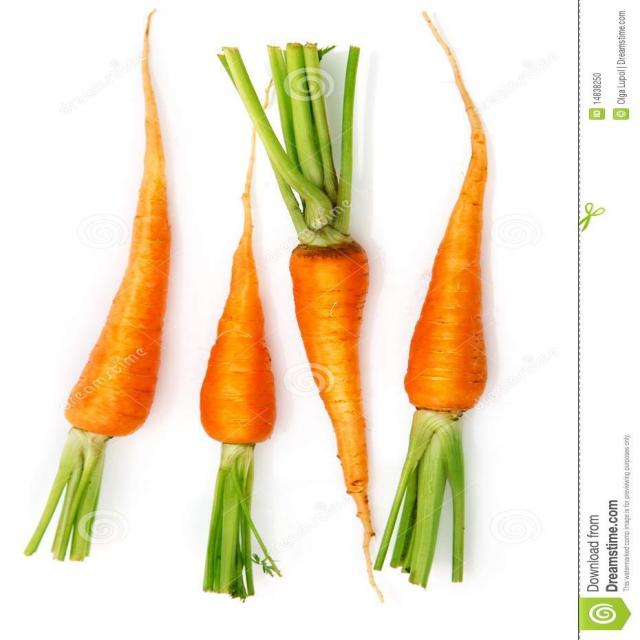Carrot: (407, 14, 500, 593), (56, 48, 166, 434), (282, 242, 396, 558), (200, 143, 278, 448)
